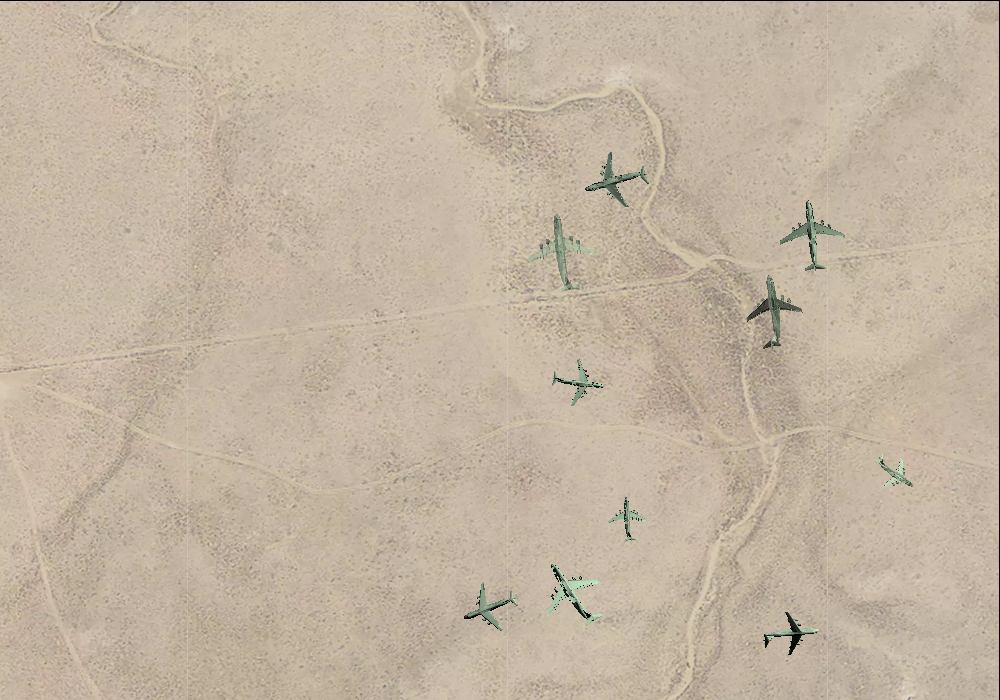plane: (524, 544, 622, 643), (521, 209, 605, 296), (733, 270, 810, 353), (576, 142, 656, 220), (775, 196, 848, 274), (453, 573, 525, 642), (865, 443, 925, 501), (761, 607, 821, 663), (548, 354, 607, 410), (606, 496, 650, 542)
